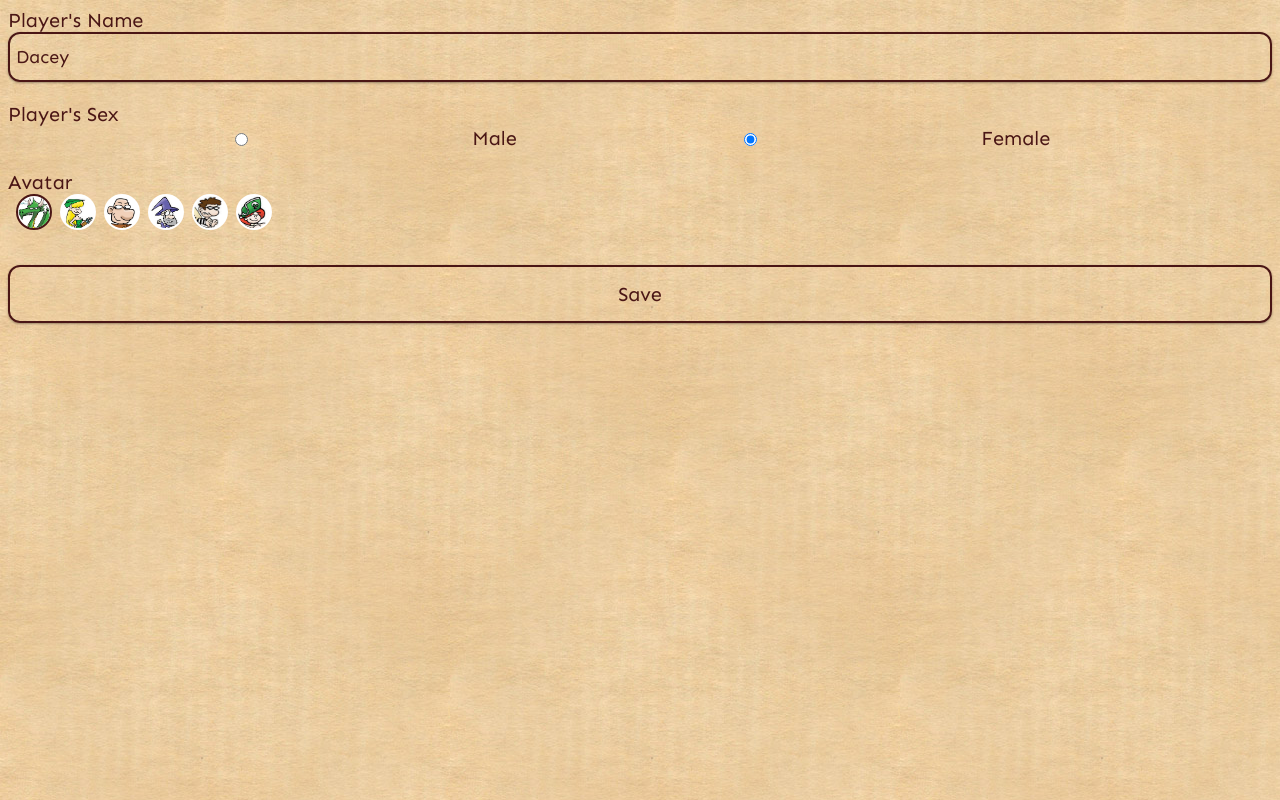
<PlayerForm/> › handles player sex update
Expected: the radio button with test id "select-female" is checked, [744,129,756,150]
Click the radio button with test id "select-male" at [241, 140], box [235,129,248,150]
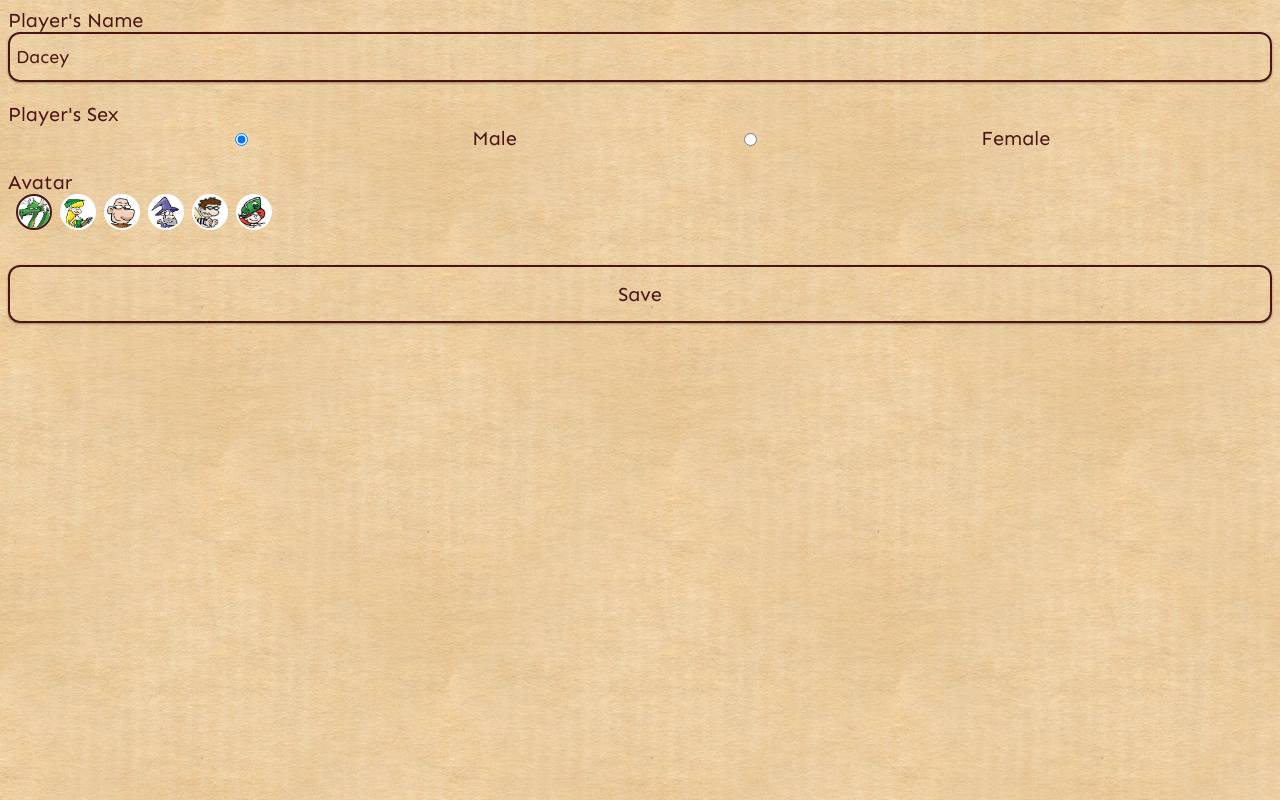
Expected: the radio button with test id "select-male" is checked, [235,129,248,150]
Expected: the radio button with test id "select-female" is not checked, [744,129,756,150]
